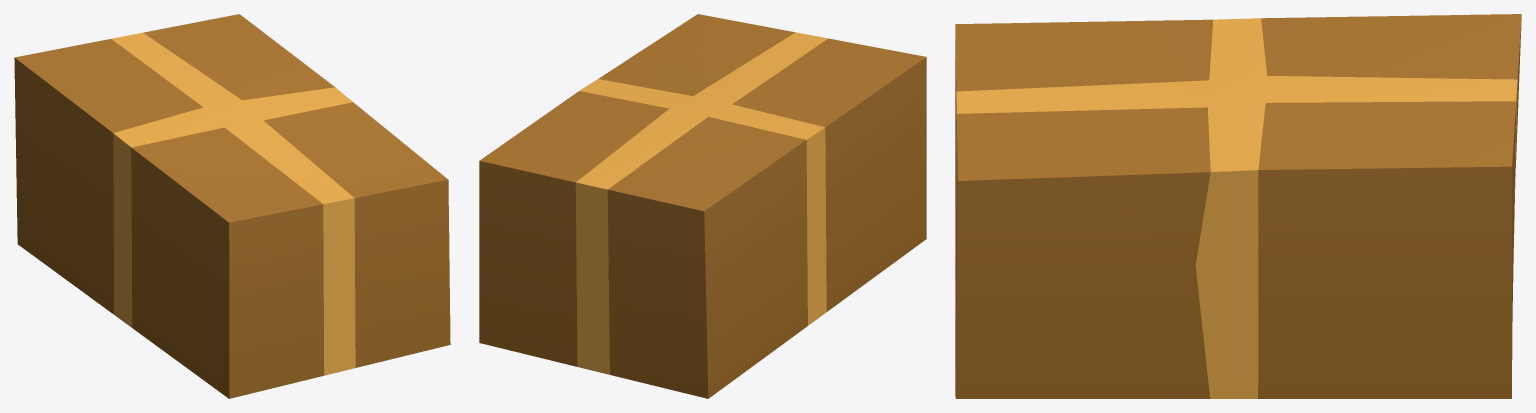
3 renders of one model, left to right at view 1: azimuth 30°, elevation 25°; view 2: azimuth 150°, elevation 25°; view 3: azimuth 270°, elevation 25°, orthographic. The views are drawn at different scales.
Visible parts, largest first — view 1: Box_3; view 2: Box_3; view 3: Box_3.
Boxes of the visible parts, x1,y1,x2,y2 form: Box_3: (14, 14, 450, 398); Box_3: (479, 14, 926, 398); Box_3: (955, 14, 1521, 398).
Bounding box in the file's own units: 45.14 × 35.81 × 75.79.
